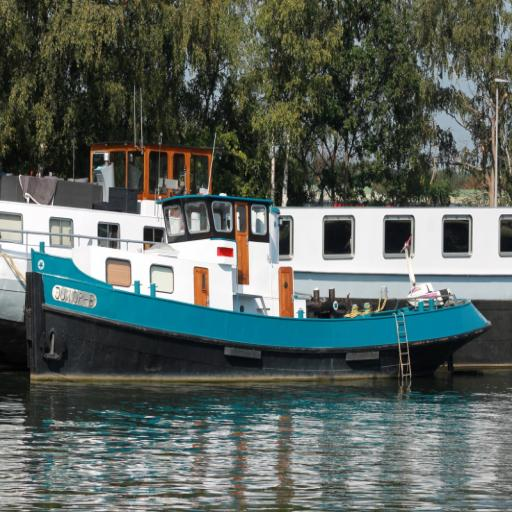tugboat: (20, 188, 497, 412)
